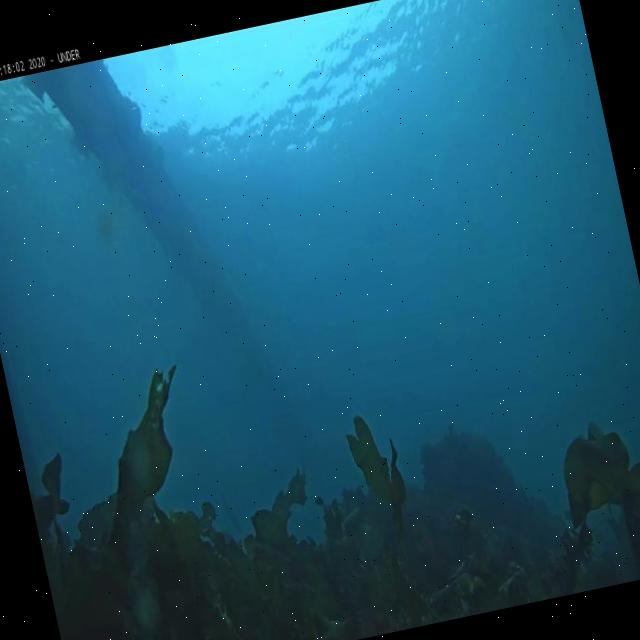fish: (216, 482, 243, 536)
